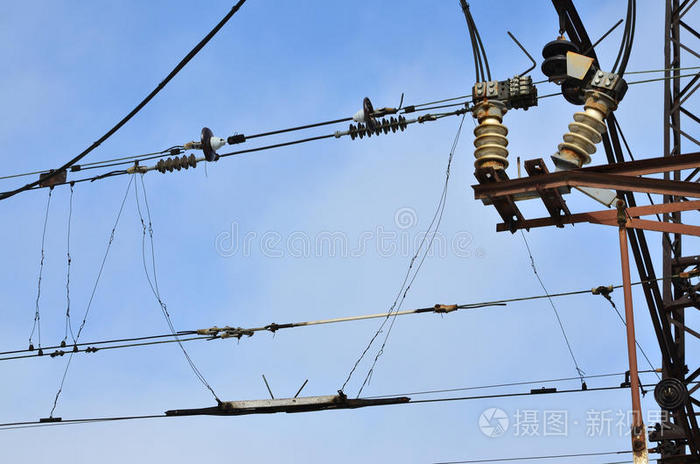insulator: (349, 117, 409, 138), (157, 155, 195, 173)
